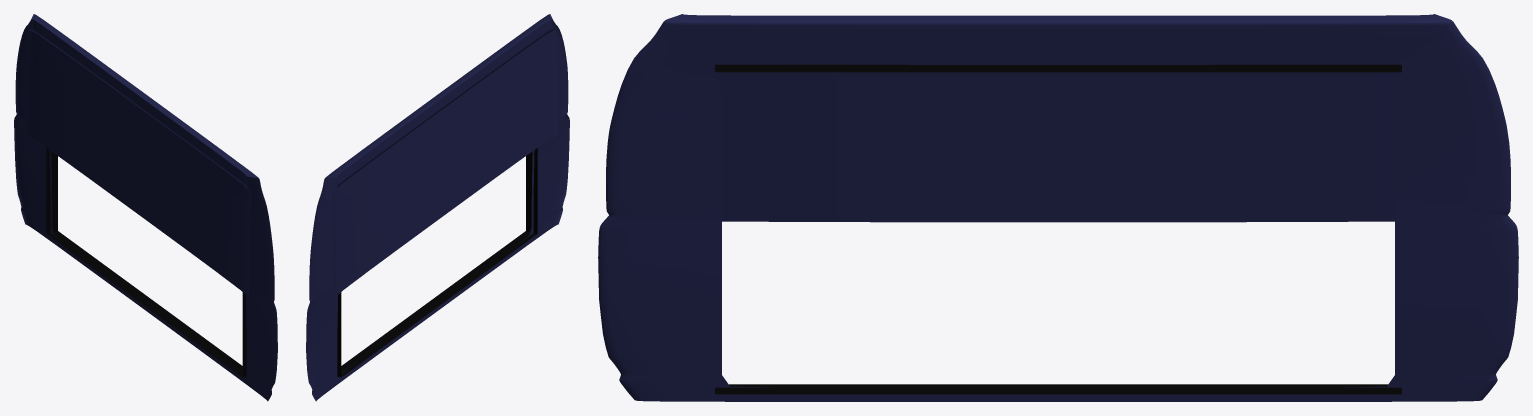
The picture shows the model from 3 angles, left to right: view 1: azimuth 30°, elevation 25°; view 2: azimuth 150°, elevation 25°; view 3: azimuth 270°, elevation 25°; orthographic projection. The views are drawn at different scales.
Parts seen in each view (by area): view 1: U803_3A_505J_C_1_DaS_U803_3A_505J_C, U803_3A_505J_C_U803_3A_505J_C_2_D, U803_3A_505J_C_1_DaS_U803_3A_505J_C_E; view 2: U803_3A_505J_C_1_DaS_U803_3A_505J_C, U803_3A_505J_C_U803_3A_505J_C_2_D, U803_3A_505J_C_1_DaS_U803_3A_505J_C_E; view 3: U803_3A_505J_C_1_DaS_U803_3A_505J_C, U803_3A_505J_C_U803_3A_505J_C_2_D, U803_3A_505J_C_1_DaS_U803_3A_505J_C_E.
Boxes of the visible parts, x1,y1,x2,y2 form: U803_3A_505J_C_1_DaS_U803_3A_505J_C: (15,19,277,400); U803_3A_505J_C_U803_3A_505J_C_2_D: (46,148,246,377); U803_3A_505J_C_1_DaS_U803_3A_505J_C_E: (14,14,277,400); U803_3A_505J_C_1_DaS_U803_3A_505J_C: (306,19,568,400); U803_3A_505J_C_U803_3A_505J_C_2_D: (337,148,537,377); U803_3A_505J_C_1_DaS_U803_3A_505J_C_E: (306,14,569,400); U803_3A_505J_C_1_DaS_U803_3A_505J_C: (600,22,1516,401); U803_3A_505J_C_U803_3A_505J_C_2_D: (715,64,1401,394); U803_3A_505J_C_1_DaS_U803_3A_505J_C_E: (598,14,1518,400).
Size of the model in its own units: 7.33 by 79.89 by 175.
